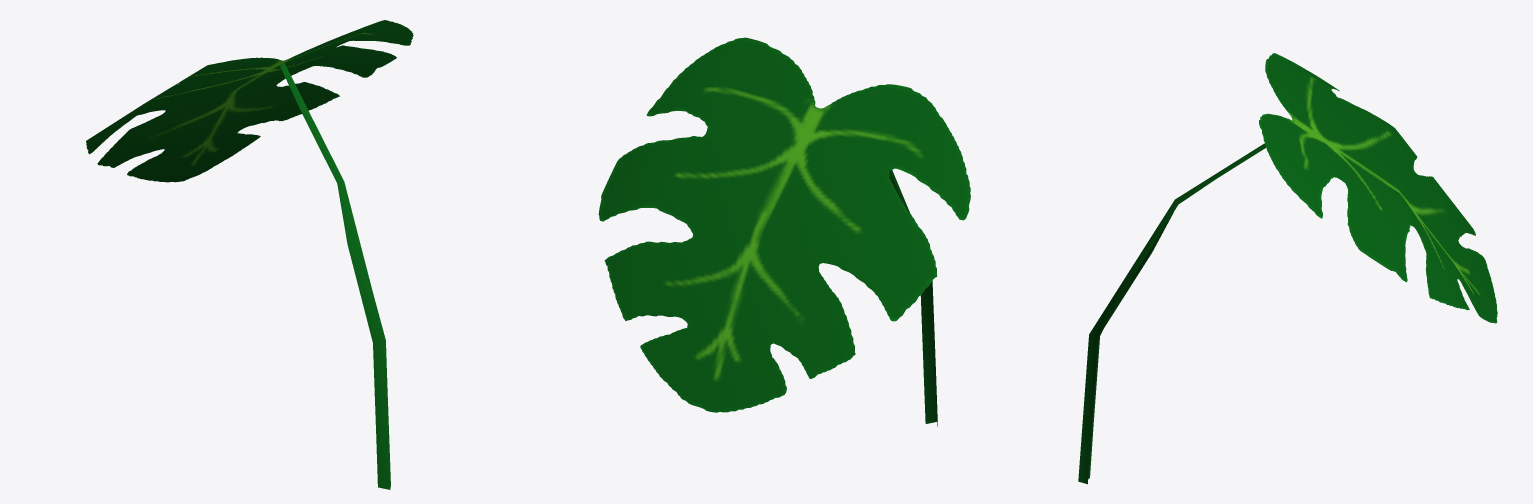
Rendered from monstera.fbx.
The picture shows the model from 3 angles, left to right: view 1: azimuth 30°, elevation 25°; view 2: azimuth 150°, elevation 25°; view 3: azimuth 270°, elevation 25°; orthographic projection. The views are drawn at different scales.
Parts seen in each view (by area): view 1: monstera; view 2: monstera; view 3: monstera.
Part boxes in pixels (box(x1,y1,x2,y2)): monstera: box(86, 20, 413, 489); monstera: box(598, 37, 970, 426); monstera: box(1078, 53, 1497, 484).
Bounding box in the file's own units: 26.5 × 29.35 × 28.81.
Materials: 1 (1 with a texture image).
